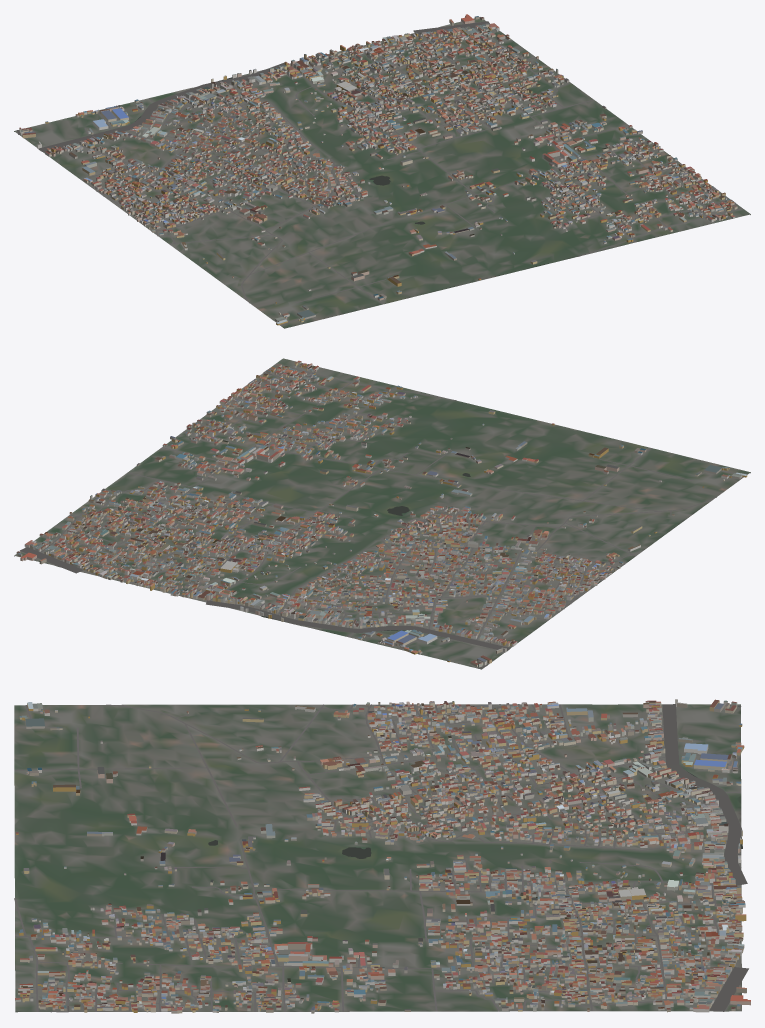
3 views of the same model, one above another, from view 1: azimuth 30°, elevation 25°; view 2: azimuth 150°, elevation 25°; view 3: azimuth 270°, elevation 25° (orthographic). The views are drawn at different scales.
Parts seen in each view (by area): view 1: ground, buildings, roads; view 2: ground, buildings, roads; view 3: ground, buildings, roads.
Boxes of the visible parts, bbox=[...] form: ground: bbox=[14, 17, 750, 328]; buildings: bbox=[19, 14, 737, 325]; roads: bbox=[17, 21, 742, 325]; ground: bbox=[14, 358, 750, 669]; buildings: bbox=[16, 360, 747, 667]; roads: bbox=[20, 364, 735, 668]; ground: bbox=[14, 704, 741, 1012]; buildings: bbox=[15, 699, 750, 1013]; roads: bbox=[14, 704, 748, 1012].
Bounding box in the file's own units: 1414 × 21.83 × 1422.
